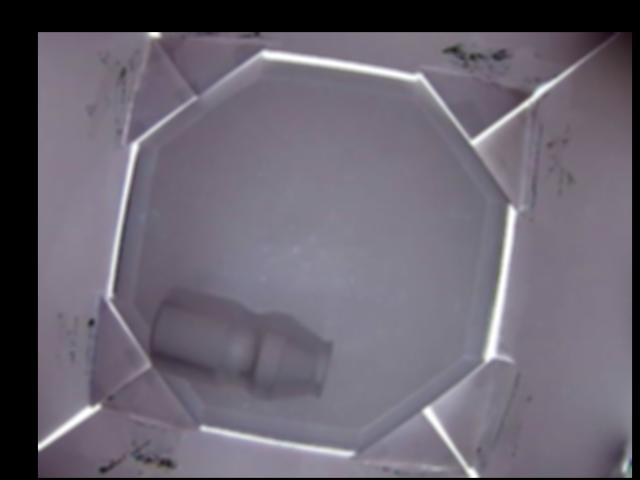Bottle: (145, 284, 335, 396)
